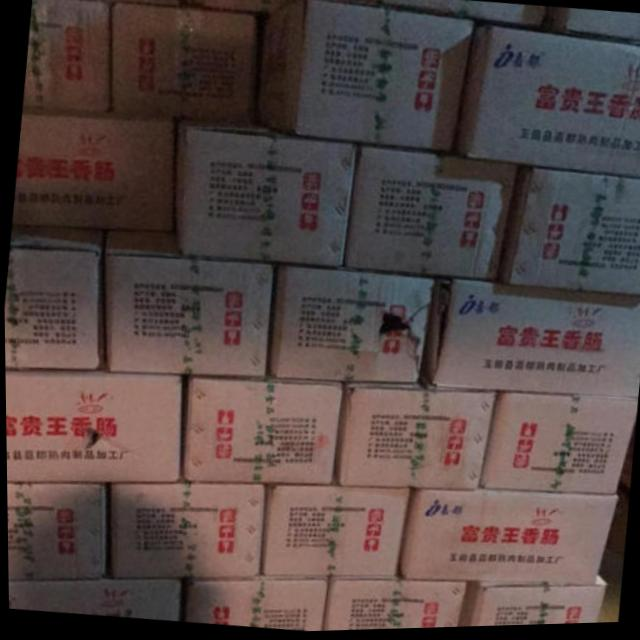box: (255, 2, 473, 155), (173, 118, 358, 272), (453, 31, 640, 181), (414, 282, 640, 400), (104, 231, 273, 381), (343, 147, 518, 286), (396, 490, 617, 589), (267, 264, 434, 389), (4, 366, 178, 485), (11, 105, 175, 231), (329, 383, 492, 495), (498, 170, 640, 298), (178, 377, 340, 488), (110, 1, 253, 125), (478, 394, 636, 496), (106, 484, 263, 580), (4, 225, 106, 372), (256, 486, 407, 581), (22, 0, 115, 114), (6, 483, 106, 580), (179, 578, 330, 633), (321, 579, 464, 633), (457, 579, 605, 630), (7, 580, 179, 622), (542, 9, 640, 48), (542, 9, 640, 47), (187, 0, 378, 15)
